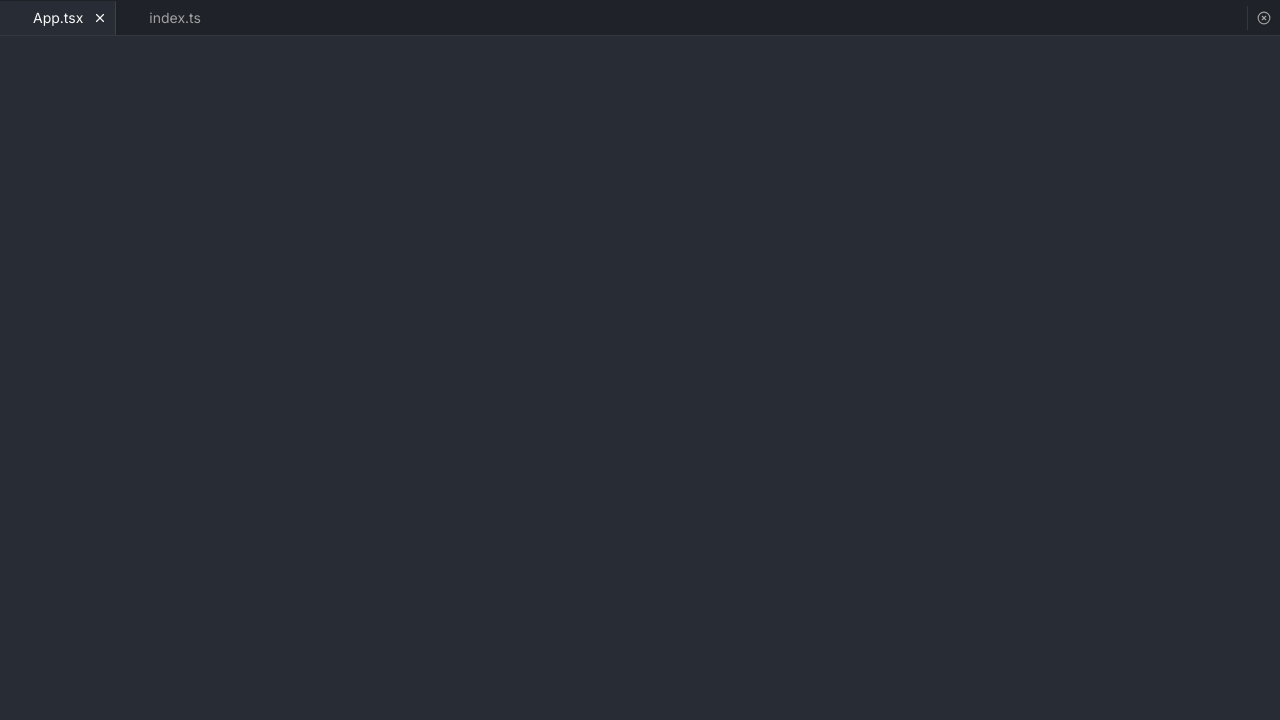
Test case: TopNavigation Close All Tabs Control (Issue #73) › prompts with confirmation dialog and does not close tabs immediately when hasDirtyTabs is true
Step 1. Click the button named "Close all tabs" → {"x": 1264, "y": 18}, box top-left (1252, 6), bottom-right (1276, 30)
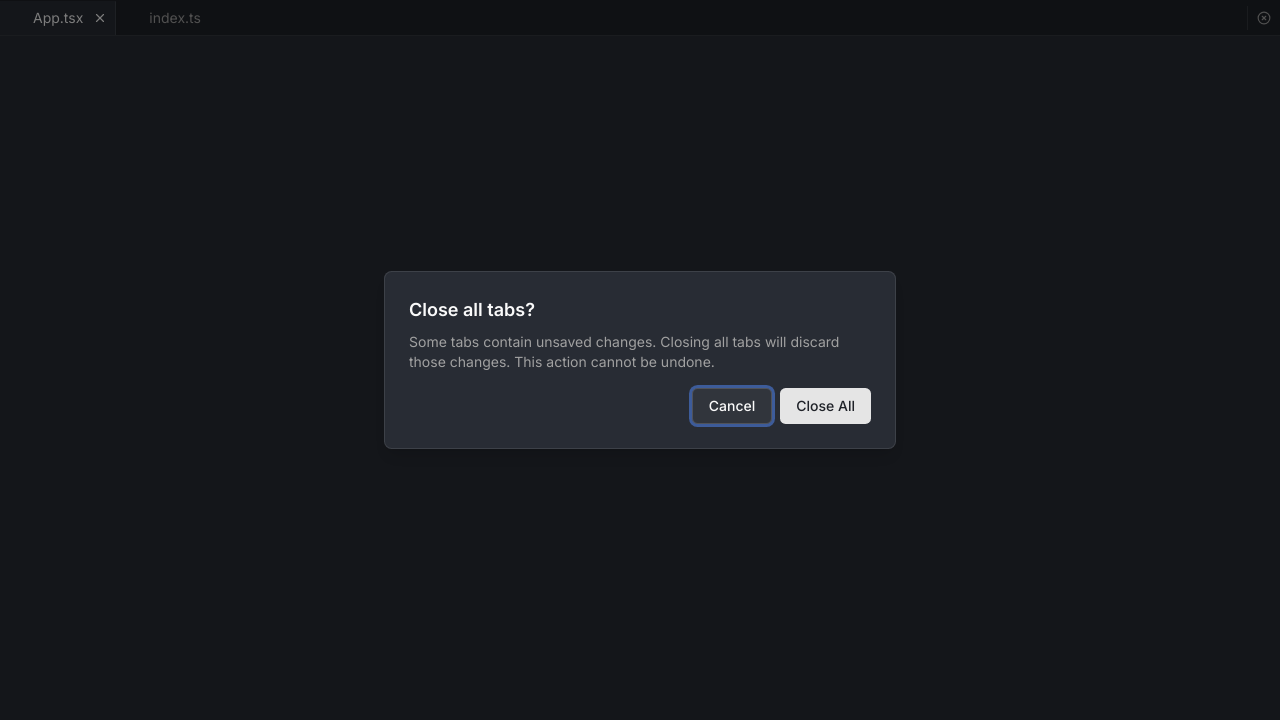
Expected: the heading "Close all tabs?" is shown, top-left (409, 299), bottom-right (535, 320)
Expected: the text "Some tabs contain unsaved changes. Closing all tabs will discard those changes. This action cannot be undone." is shown, top-left (409, 333), bottom-right (839, 370)
